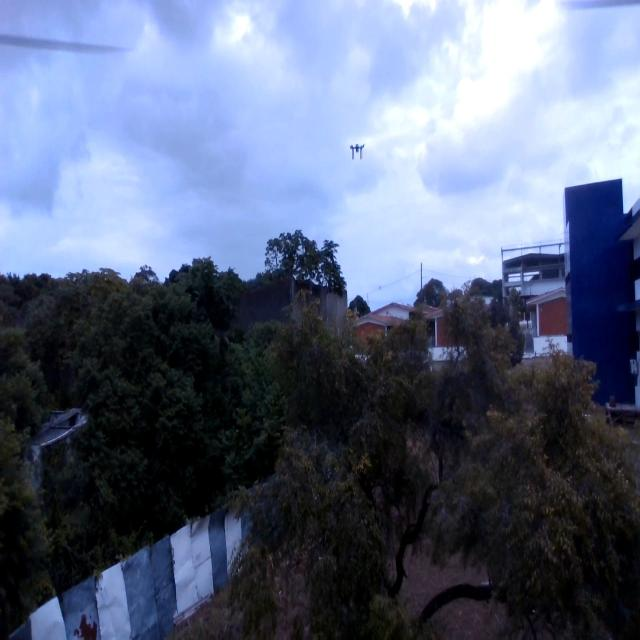-uav-: (344, 135, 365, 167)
